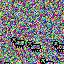sheep: (11, 36, 25, 49), (27, 41, 41, 53), (52, 40, 64, 53), (40, 57, 55, 64)
